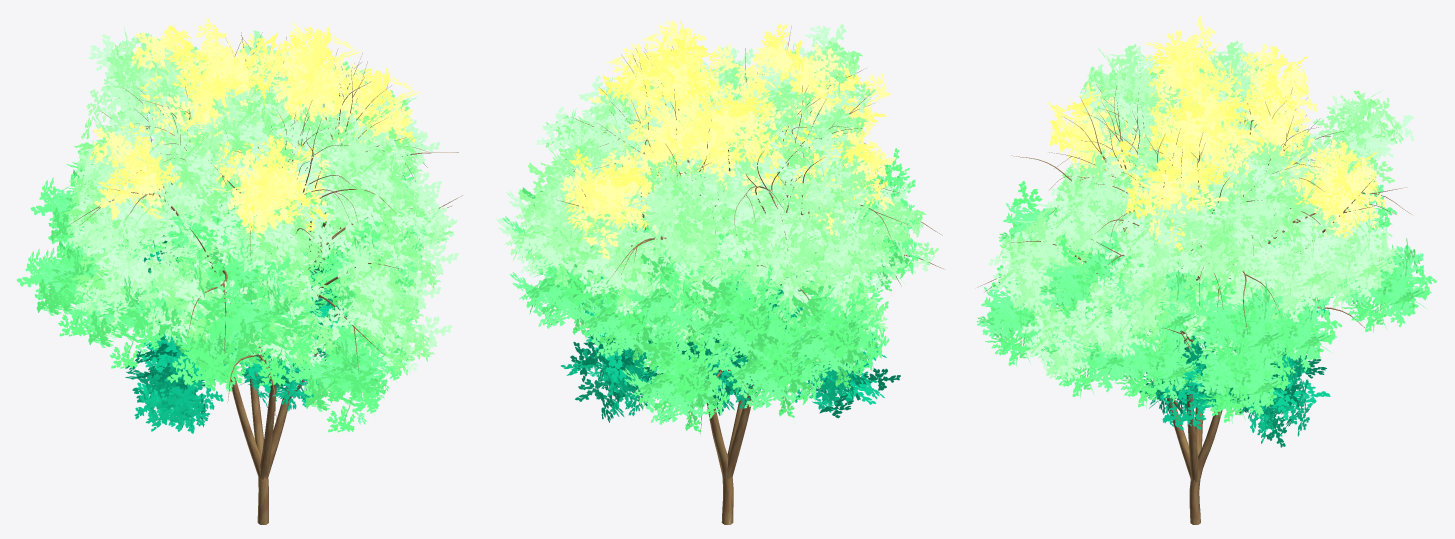
Rendered from Tree-goodlookinghehe.glb.
The picture shows the model from 3 angles, left to right: view 1: azimuth 30°, elevation 25°; view 2: azimuth 150°, elevation 25°; view 3: azimuth 270°, elevation 25°; orthographic projection. The views are drawn at different scales.
Parts seen in each view (by area): view 1: Plano.408, tree.005; view 2: Plano.408, tree.005; view 3: Plano.408, tree.005.
Part boxes in pixels (x1,y1,x2,y2): Plano.408: (16,17,458,433); tree.005: (69,32,462,524); Plano.408: (496,20,938,436); tree.005: (522,26,944,524); Plano.408: (976,16,1436,447); tree.005: (977,66,1411,524).
Bounding box in the file's own units: 20.78 × 25.8 × 22.81.
Materials: 5 (5 with a texture image).
